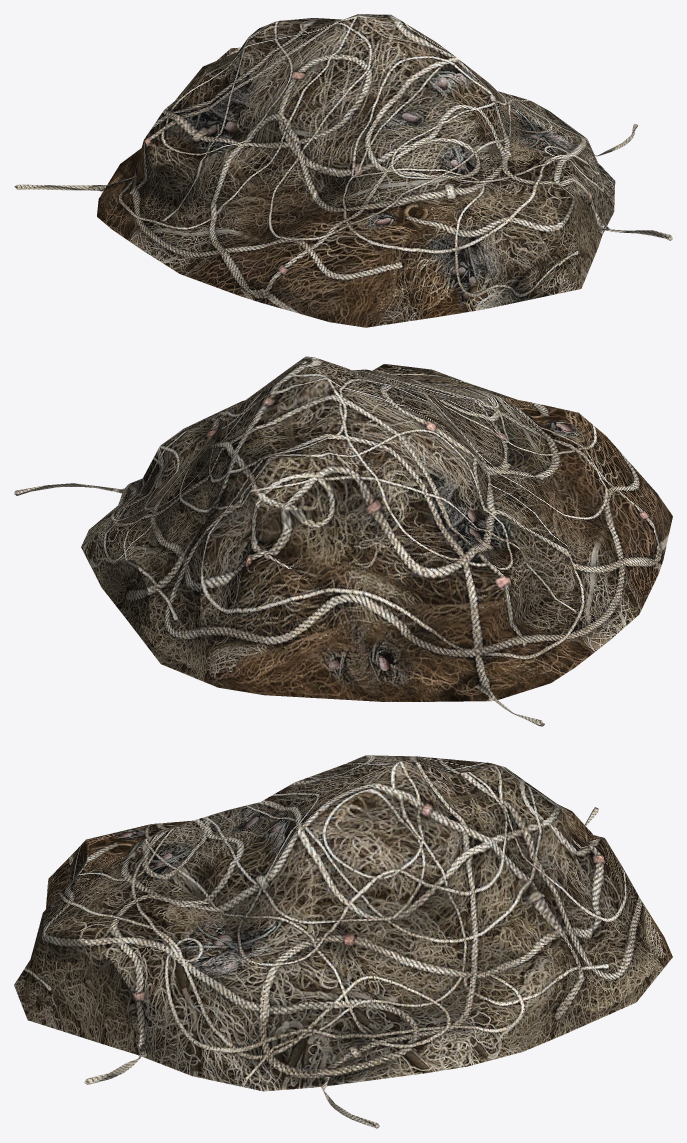
The model's file is big_messy_pile.FBX.
The picture shows the model from 3 angles, top to bottom: view 1: azimuth 30°, elevation 25°; view 2: azimuth 150°, elevation 25°; view 3: azimuth 270°, elevation 25°; orthographic projection. The views are drawn at different scales.
Visible parts, largest first — view 1: big_messy_pile; view 2: big_messy_pile; view 3: big_messy_pile.
Boxes of the visible parts, bbox=[...] form: big_messy_pile: bbox=[14, 14, 672, 327]; big_messy_pile: bbox=[14, 356, 672, 726]; big_messy_pile: bbox=[14, 755, 672, 1128].
Bounding box in the file's own units: 129 × 114 × 41.35.
